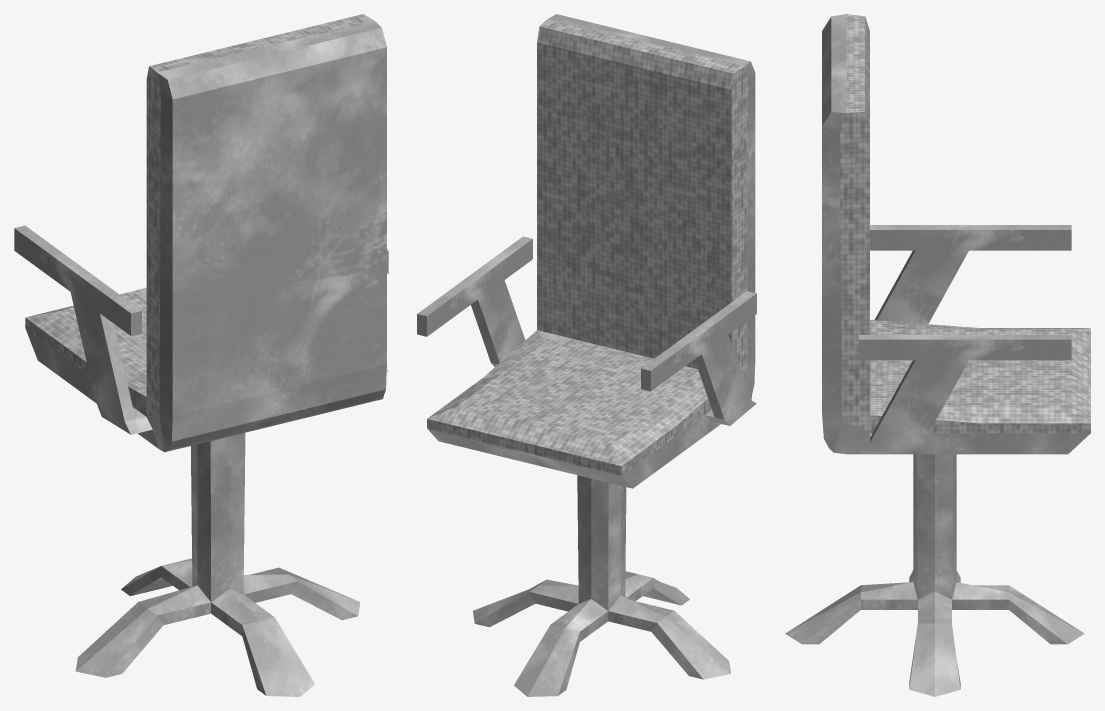
File: Chair.fbx
The picture shows the model from 3 angles, left to right: view 1: azimuth 30°, elevation 25°; view 2: azimuth 150°, elevation 25°; view 3: azimuth 270°, elevation 25°; orthographic projection. The views are drawn at different scales.
Visible parts, largest first — view 1: Cube; view 2: Cube; view 3: Cube.
Part boxes in pixels (bbox=[...]): Cube: bbox=[14, 14, 388, 696]; Cube: bbox=[417, 14, 756, 696]; Cube: bbox=[785, 14, 1090, 696].
Size of the model in its own units: 132 by 277 by 134.
